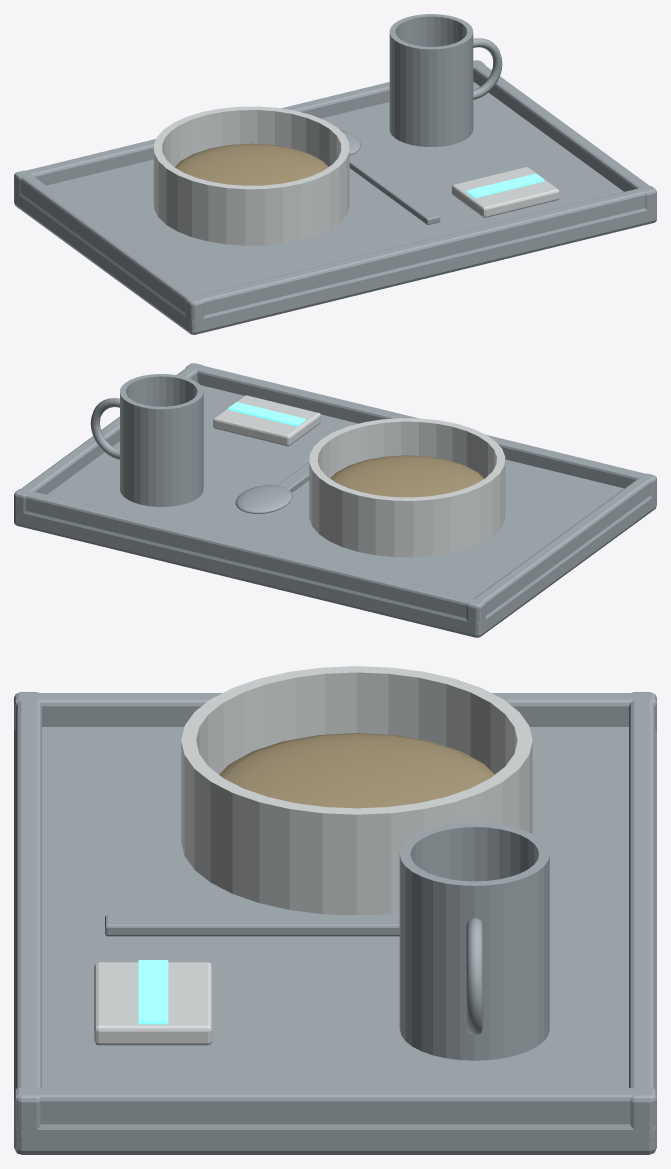
File: MealTraySet.fbx
The picture shows the model from 3 angles, top to bottom: view 1: azimuth 30°, elevation 25°; view 2: azimuth 150°, elevation 25°; view 3: azimuth 270°, elevation 25°; orthographic projection. The views are drawn at different scales.
Parts seen in each view (by area): view 1: MealTraySet_Body; view 2: MealTraySet_Body; view 3: MealTraySet_Body.
Part boxes in pixels (left/top/right/bottom): MealTraySet_Body: left=14, top=14, right=656, bottom=334; MealTraySet_Body: left=14, top=363, right=656, bottom=637; MealTraySet_Body: left=14, top=666, right=656, bottom=1154.
Bounding box in the file's own units: 0.45 × 0.112 × 0.3.
